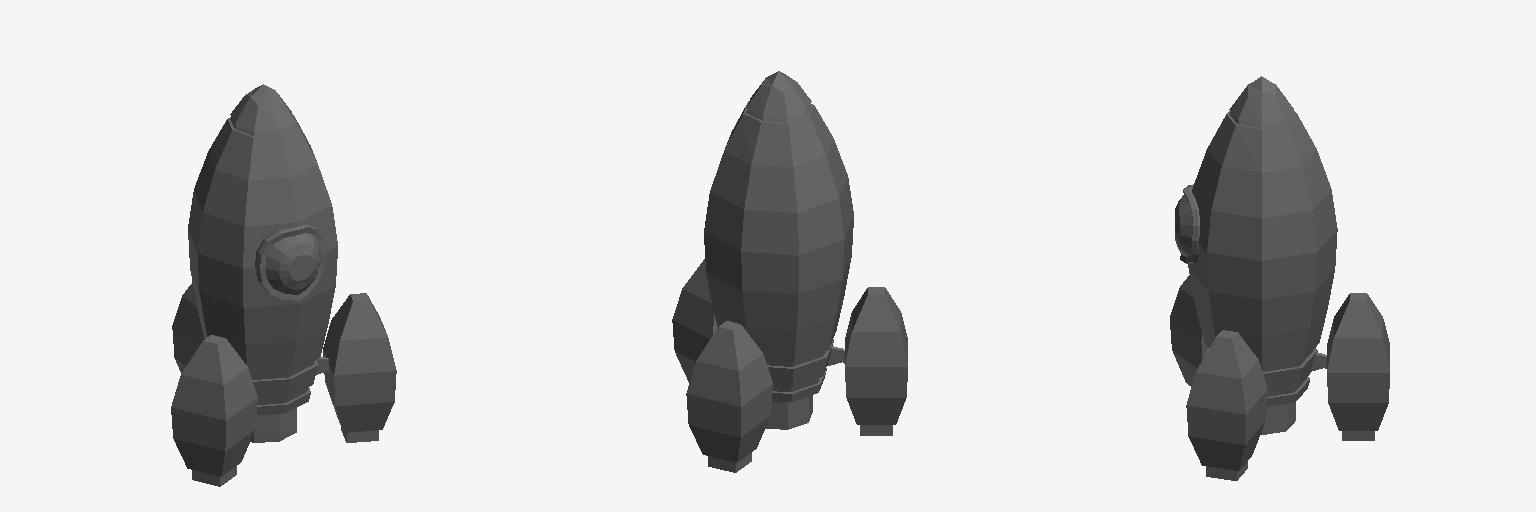
The model's file is rocket.obj.
The picture shows the model from 3 angles: view 1: azimuth 30°, elevation 25°; view 2: azimuth 150°, elevation 25°; view 3: azimuth 270°, elevation 25°; orthographic projection.
Visible parts, largest first — view 1: rocket; view 2: rocket; view 3: rocket.
Boxes of the visible parts, x1,y1,x2,y2 form: rocket: [171, 84, 396, 486]; rocket: [672, 71, 907, 472]; rocket: [1170, 76, 1389, 480].
Size of the model in its own units: 5.18 by 7.86 by 4.4.